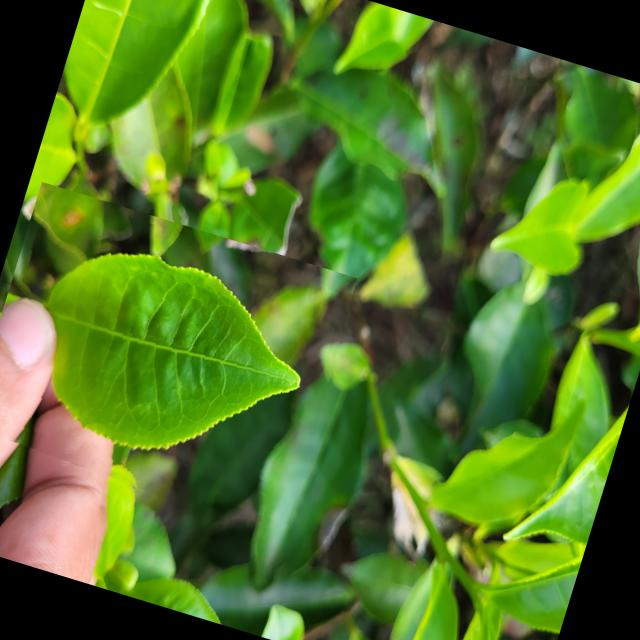Category B(2-4 days): (0, 180, 363, 541)
